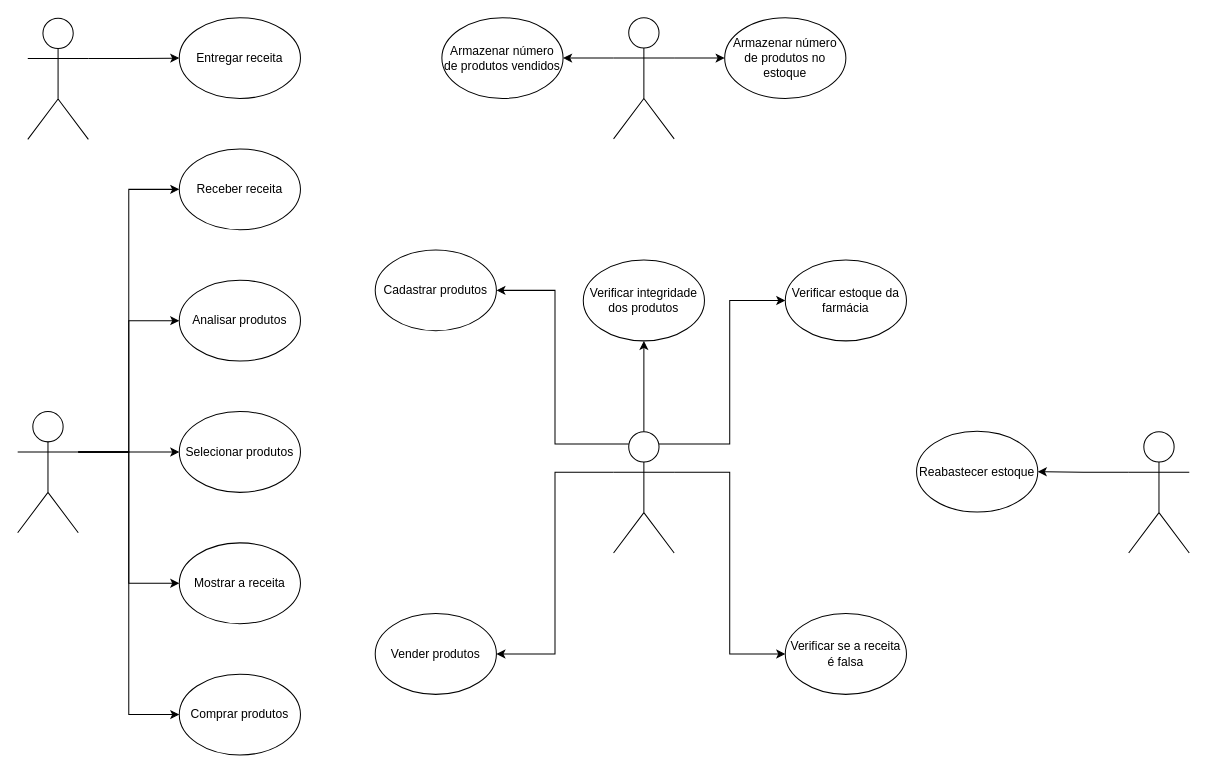
Some shapes in this 1207 by 773 pixel diagram are drawn without their labels. Here are the shapes that lost their labels. From the top down, the centre of each, then its label:
At [57,78]: "Médico".
At [643,78]: "Sistema".
At [47,472]: "Cliente".
At [643,492]: "Funcionários".
At [1158,492]: "Fornecedor".
